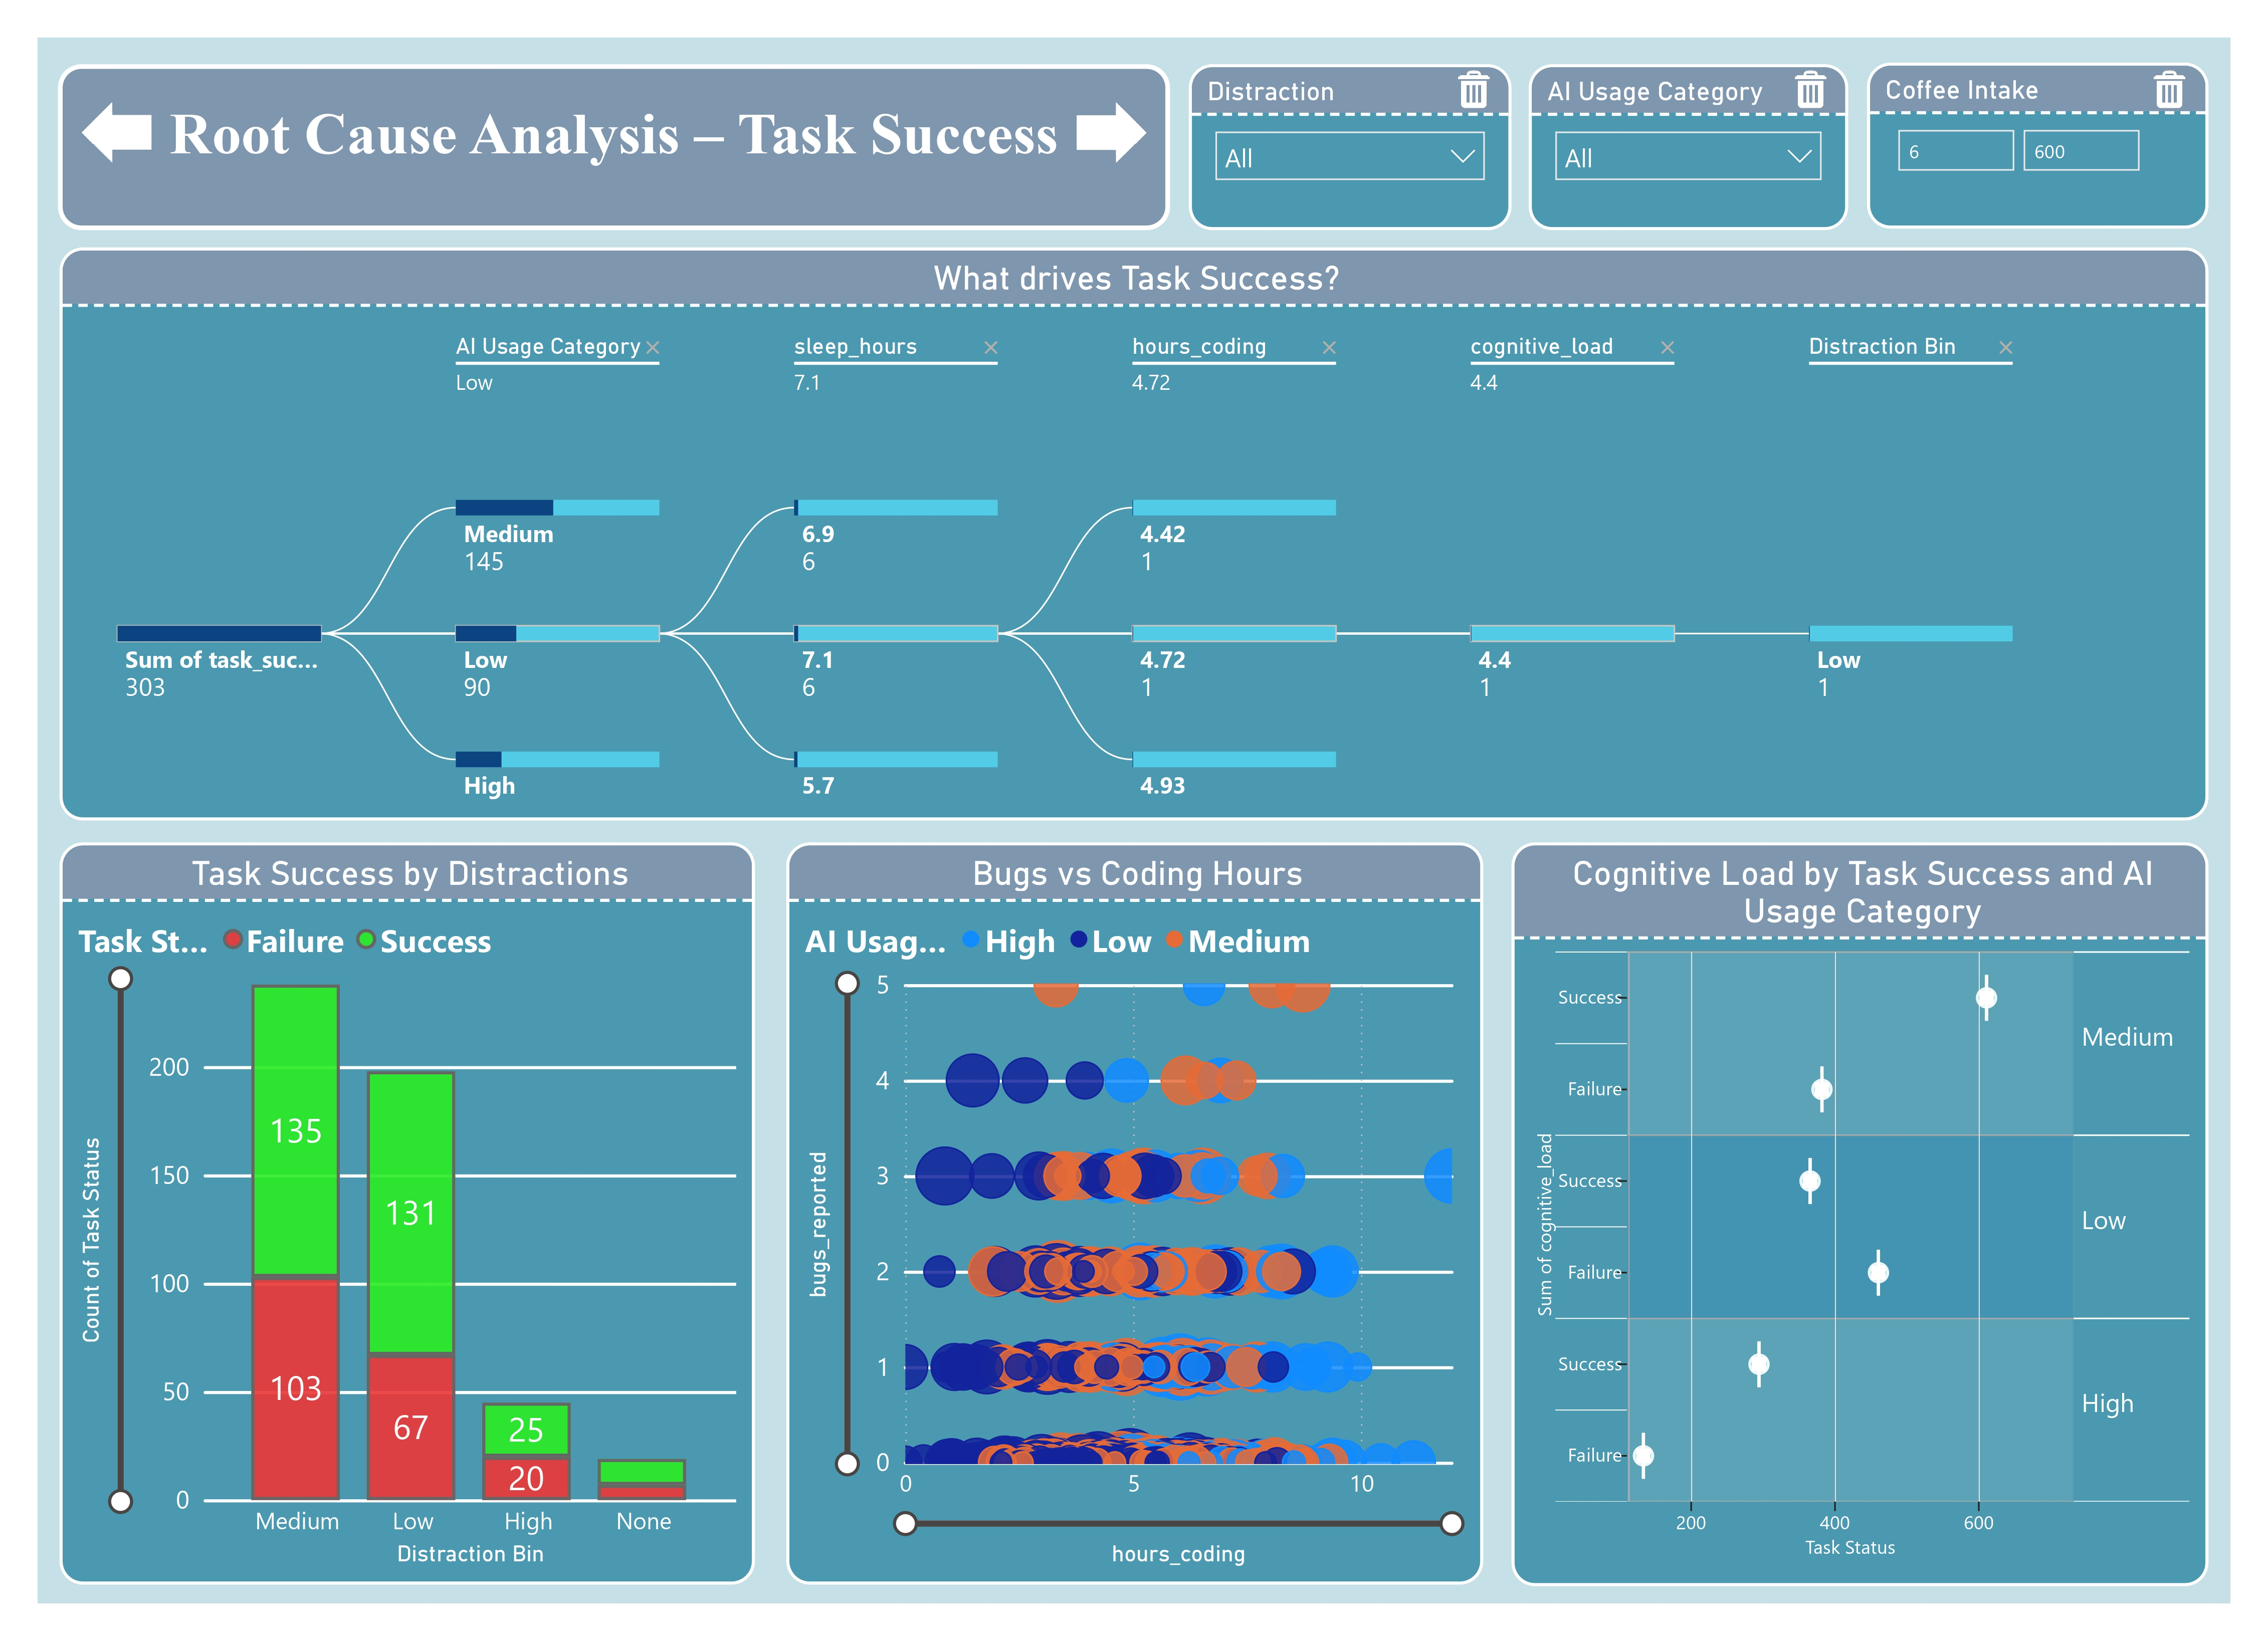

The page's visual inventory and layout, read from the dashboard file:
{"tool":"powerbi","page":{"name":"Root Cause Analysis – Task Success","canvas":[1400,1000],"ordinal":2},"visuals":[{"type":"decompositionTreeVisual","title":"What drives Task Success?","fields":{"Analyze":["Sum(ai_dev_productivity (1).task_success)"],"ExplainBy":["ai_dev_productivity (1).AI Usage Category","ai_dev_productivity (1).sleep_hours","ai_dev_productivity (1).hours_coding","ai_dev_productivity (1).cognitive_load","ai_dev_productivity (1).Distraction Bin"]},"box":[13.8,133.9,1372,366.1],"z":0},{"type":"scatterChart","title":"Bugs vs Coding Hours","fields":{"X":["ai_dev_productivity (1).hours_coding"],"Y":["ai_dev_productivity (1).bugs_reported"],"Series":["ai_dev_productivity (1).AI Usage Category"],"Size":["Sum(ai_dev_productivity (1).cognitive_load)"]},"box":[478.3,513.8,444.9,474.4],"z":1000},{"type":"BoxandWhiskerByMAQ1823AD39DT234AB532063E128AX","title":"Cognitive Load by Task Success and AI Usage Category","fields":{"measure":["Sum(ai_dev_productivity (1).cognitive_load)"],"category":["ai_dev_productivity (1).Task Status"],"categoryGroup":["ai_dev_productivity (1).Task Status"],"xCategoryParent":["ai_dev_productivity (1).AI Usage Category"]},"box":[940.9,513.8,444.9,475],"z":2000},{"type":"columnChart","title":"Task Success by Distractions","fields":{"Category":["ai_dev_productivity (1).Distraction Bin"],"Series":["ai_dev_productivity (1).Task Status"],"Y":["CountNonNull(ai_dev_productivity (1).Task Status)"]},"box":[13.8,513.8,444,474.4],"z":3000},{"type":"slicer","title":"Coffee Intake","fields":{"Values":["ai_dev_productivity (1).coffee_intake_mg"]},"box":[1168,16,218,106],"z":4000},{"type":"slicer","title":"AI Usage Category","fields":{"Values":["ai_dev_productivity (1).AI Usage Category"]},"box":[951.5,16.9,204.6,106.2],"z":5000},{"type":"slicer","title":"Distraction ","fields":{"Values":["ai_dev_productivity (1).Distraction Bin"]},"box":[734.6,16.9,206.2,106.2],"z":6000},{"type":"textbox","box":[13.3,16.7,710,106.7],"z":7000},{"type":"image","box":[1106.9,16.2,49.2,33.8],"z":8000},{"type":"image","box":[1336.2,16.2,50,33.8],"z":9000},{"type":"image","box":[891.5,16.2,49.2,33.8],"z":10000},{"type":"image","box":[13.3,33.3,75,55],"z":11000},{"type":"image","box":[648.3,33.3,75,55],"z":12000}]}

Visuals, with their boxes in screenshot pixels (x1, y1, x2, y2):
"What drives Task Success?" decompositionTreeVisual: l=59, t=247, r=2208, b=821
"Bugs vs Coding Hours" scatterChart: l=787, t=842, r=1484, b=1585
"Cognitive Load by Task Success and AI Usage Category" BoxandWhiskerByMAQ1823AD39DT234AB532063E128AX: l=1511, t=842, r=2208, b=1586
"Task Success by Distractions" columnChart: l=59, t=842, r=755, b=1585
"Coffee Intake" slicer: l=1867, t=63, r=2208, b=228
"AI Usage Category" slicer: l=1528, t=64, r=1848, b=230
"Distraction " slicer: l=1188, t=64, r=1511, b=230
textbox: l=59, t=64, r=1170, b=231
image: l=1771, t=63, r=1848, b=116
image: l=2131, t=63, r=2209, b=116
image: l=1434, t=63, r=1511, b=116
image: l=59, t=90, r=176, b=176
image: l=1053, t=90, r=1170, b=176
